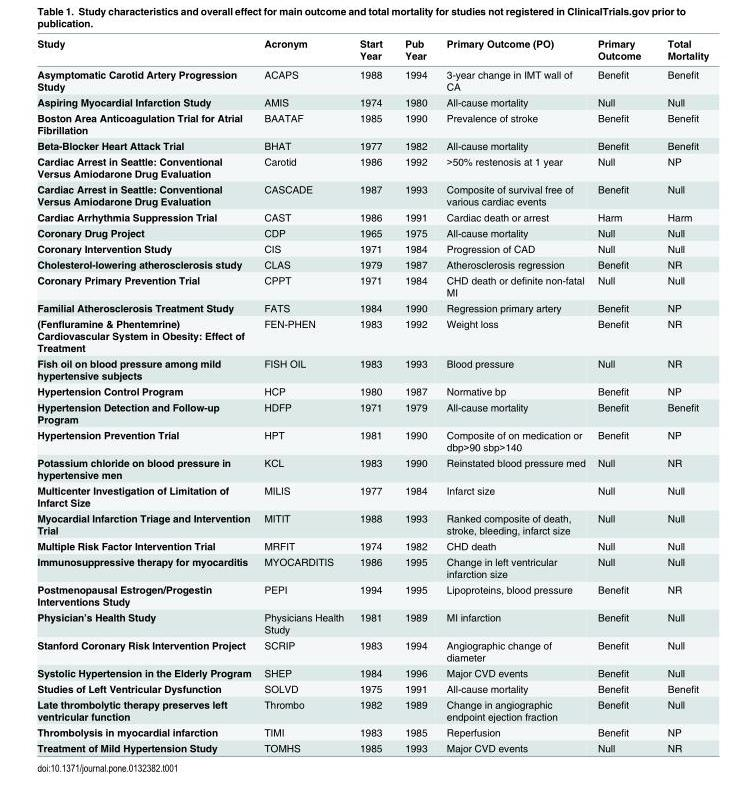table: (36, 37, 708, 753)
table column: (36, 37, 257, 753), (436, 37, 590, 753), (257, 37, 351, 753), (590, 37, 653, 753), (653, 37, 708, 753), (392, 37, 436, 753), (351, 37, 392, 753)
table column header: (36, 37, 708, 64)
table row: (36, 315, 708, 355), (36, 64, 708, 93), (36, 109, 708, 137), (36, 180, 708, 208), (36, 271, 708, 299), (36, 355, 708, 383), (36, 398, 708, 426), (36, 426, 708, 454), (36, 454, 708, 482), (36, 509, 708, 537), (36, 553, 708, 581), (36, 608, 708, 636), (36, 636, 708, 664), (36, 37, 708, 64), (36, 153, 708, 180), (36, 482, 708, 509), (36, 581, 708, 608), (36, 696, 708, 723), (36, 93, 708, 109), (36, 137, 708, 153), (36, 208, 708, 224), (36, 224, 708, 240), (36, 240, 708, 256), (36, 299, 708, 315), (36, 537, 708, 553), (36, 664, 708, 680), (36, 680, 708, 696), (36, 723, 708, 739), (36, 256, 708, 271), (36, 383, 708, 398), (36, 739, 708, 753)
